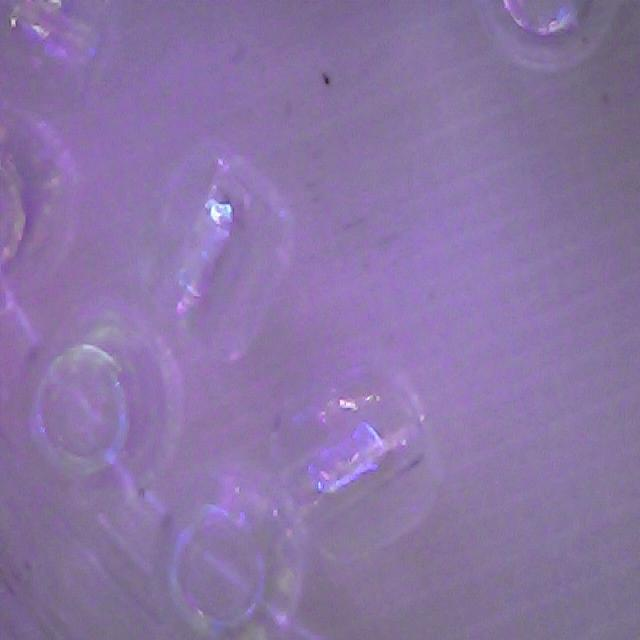beads: (146, 139, 302, 367), (30, 299, 184, 480), (0, 1, 0, 1)
